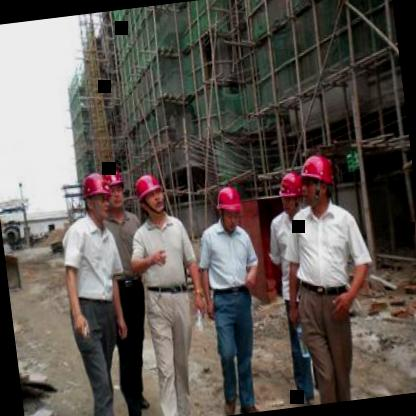helmet: (296, 152, 338, 212), (130, 168, 170, 223), (79, 170, 117, 224), (275, 170, 307, 220), (213, 184, 246, 230), (102, 165, 127, 212)
